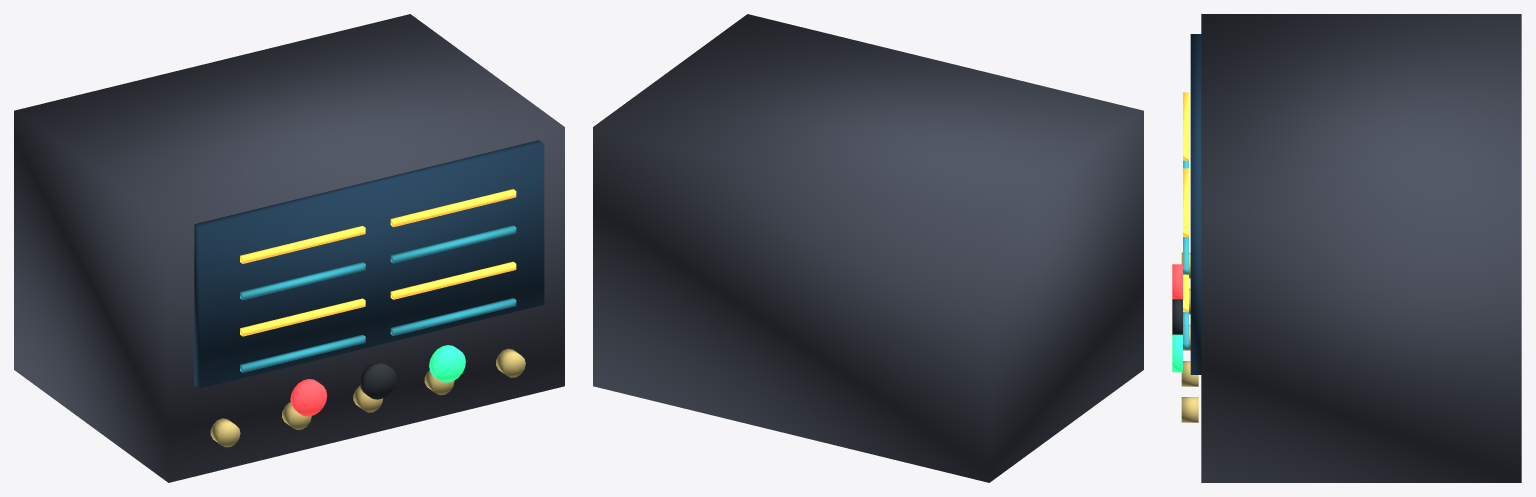
The model's file is 15_L95_Protected5VBenchSupply.fbx.
3 views of the same model, side by side, from view 1: azimuth 30°, elevation 25°; view 2: azimuth 150°, elevation 25°; view 3: azimuth 270°, elevation 25° (orthographic). The views are drawn at different scales.
Visible parts, largest first — view 1: L95_Protected5VBenchSupply, L95_Protected5VBenchSupply_Part_0004; view 2: L95_Protected5VBenchSupply; view 3: L95_Protected5VBenchSupply, L95_Protected5VBenchSupply_Part_0004.
Part boxes in pixels (box(x1,y1,x2,y2)): L95_Protected5VBenchSupply: box(14, 14, 564, 482); L95_Protected5VBenchSupply_Part_0004: box(210, 348, 525, 447); L95_Protected5VBenchSupply: box(593, 14, 1143, 482); L95_Protected5VBenchSupply: box(1172, 14, 1521, 482); L95_Protected5VBenchSupply_Part_0004: box(1181, 252, 1198, 422).
Bounding box in the file's own units: 0.8 × 0.5 × 0.589.
